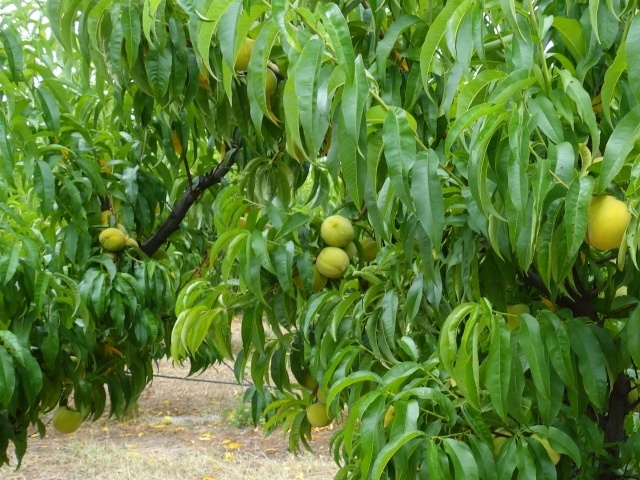peach: (582, 189, 638, 255), (315, 213, 357, 250), (313, 243, 352, 281), (50, 403, 84, 437), (303, 398, 334, 429), (95, 226, 128, 254), (353, 233, 381, 265), (312, 380, 333, 411)
